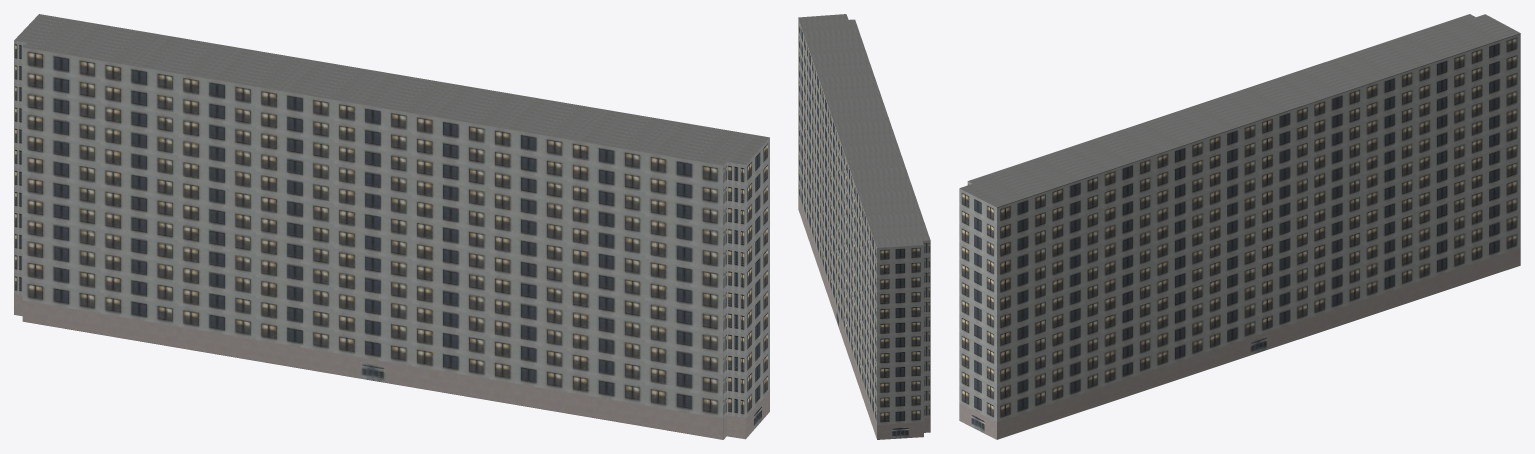
The picture shows the model from 3 angles, left to right: view 1: azimuth 30°, elevation 25°; view 2: azimuth 150°, elevation 25°; view 3: azimuth 270°, elevation 25°; orthographic projection. The views are drawn at different scales.
Visible parts, largest first — view 1: BuildingMaster_1978193347434463946400000000_0, BuildingMaster_1978193347434463946400000000_1; view 2: BuildingMaster_1978193347434463946400000000_0, BuildingMaster_1978193347434463946400000000_1; view 3: BuildingMaster_1978193347434463946400000000_0, BuildingMaster_1978193347434463946400000000_1.
Boxes of the visible parts, x1=… form: BuildingMaster_1978193347434463946400000000_0: x1=14, y1=40, x2=769, y2=439; BuildingMaster_1978193347434463946400000000_1: x1=14, y1=14, x2=769, y2=165; BuildingMaster_1978193347434463946400000000_0: x1=798, y1=18, x2=930, y2=439; BuildingMaster_1978193347434463946400000000_1: x1=798, y1=14, x2=930, y2=247; BuildingMaster_1978193347434463946400000000_0: x1=959, y1=33, x2=1520, y2=439; BuildingMaster_1978193347434463946400000000_1: x1=959, y1=14, x2=1520, y2=207.
Bounding box in the file's own units: 81.25 × 45.5 × 99.61.
2 materials, 2 textured.
